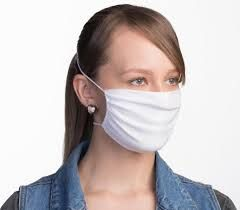with-mask: (69, 19, 183, 153)
